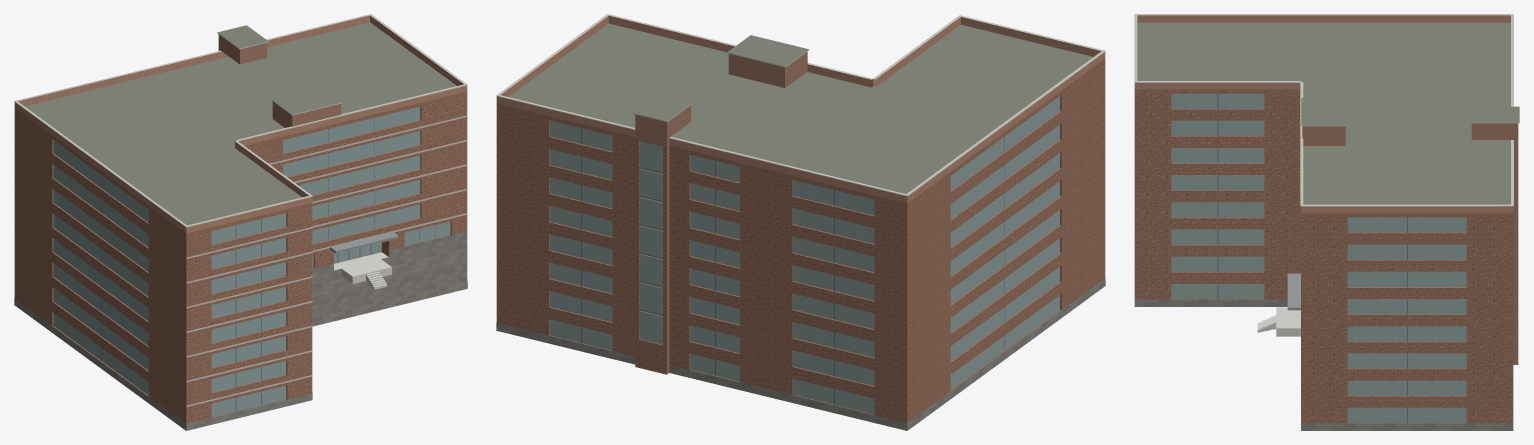
3 renders of one model, left to right at view 1: azimuth 30°, elevation 25°; view 2: azimuth 150°, elevation 25°; view 3: azimuth 270°, elevation 25°, orthographic. The views are drawn at different scales.
Parts seen in each view (by area): view 1: envStudies__wall, envStudies__roof, envStudies__glass, envStudies__base, envStudies__parapet, envStudies__trim, envStudies__wall2, envStudies__entranceStair, envStudies__frame, envStudies__canopy; view 2: envStudies__wall, envStudies__roof, envStudies__glass, envStudies__parapet, envStudies__base, envStudies__wall2, envStudies__trim, envStudies__frame; view 3: envStudies__wall, envStudies__roof, envStudies__glass, envStudies__parapet, envStudies__trim, envStudies__wall2, envStudies__base, envStudies__entranceStair, envStudies__canopy, envStudies__frame.
Boxes of the visible parts, left/top/right/bottom form: envStudies__wall: left=14, top=91, right=467, bottom=430; envStudies__roof: left=25, top=22, right=464, bottom=326; envStudies__glass: left=53, top=106, right=450, bottom=417; envStudies__base: left=14, top=231, right=467, bottom=430; envStudies__parapet: left=14, top=15, right=467, bottom=233; envStudies__trim: left=14, top=14, right=467, bottom=406; envStudies__wall2: left=218, top=34, right=341, bottom=127; envStudies__entranceStair: left=334, top=252, right=391, bottom=289; envStudies__frame: left=101, top=118, right=435, bottom=411; envStudies__canopy: left=330, top=231, right=398, bottom=253; envStudies__wall: left=496, top=59, right=1105, bottom=430; envStudies__roof: left=509, top=23, right=1093, bottom=193; envStudies__glass: left=550, top=96, right=1059, bottom=414; envStudies__parapet: left=496, top=16, right=1105, bottom=203; envStudies__base: left=496, top=278, right=1105, bottom=430; envStudies__wall2: left=635, top=51, right=807, bottom=374; envStudies__trim: left=496, top=14, right=1105, bottom=196; envStudies__frame: left=581, top=128, right=1004, bottom=404; envStudies__wall: left=1134, top=89, right=1513, bottom=423; envStudies__roof: left=1137, top=22, right=1519, bottom=204; envStudies__glass: left=1171, top=93, right=1466, bottom=422; envStudies__parapet: left=1134, top=15, right=1513, bottom=213; envStudies__trim: left=1134, top=14, right=1519, bottom=206; envStudies__wall2: left=1302, top=123, right=1518, bottom=364; envStudies__base: left=1134, top=299, right=1513, bottom=430; envStudies__entranceStair: left=1257, top=307, right=1300, bottom=336; envStudies__canopy: left=1287, top=273, right=1300, bottom=310; envStudies__frame: left=1217, top=94, right=1407, bottom=423.
Size of the model in its own units: 54.55 by 32.21 by 46.25.
11 materials, 2 textured.
